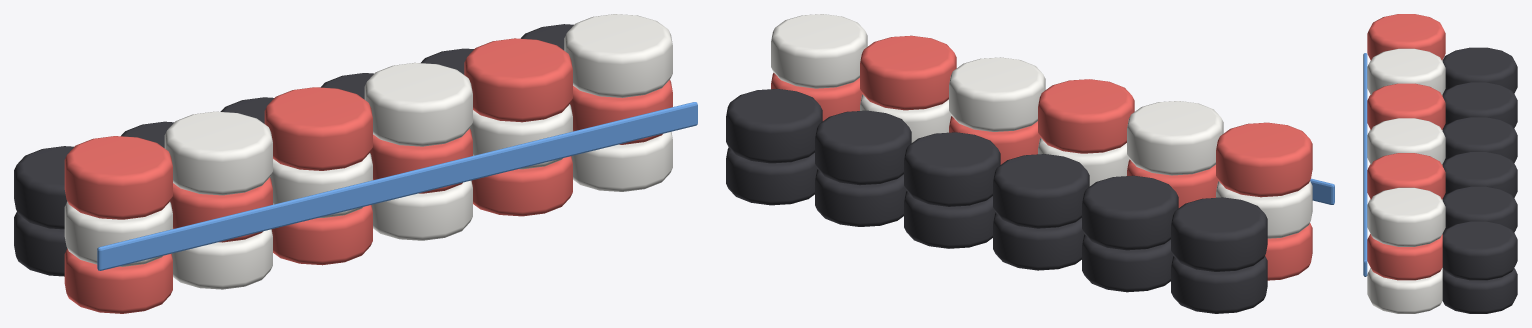
File: tyre_wall.fbx
3 renders of one model, left to right at view 1: azimuth 30°, elevation 25°; view 2: azimuth 150°, elevation 25°; view 3: azimuth 270°, elevation 25°, orthographic. The views are drawn at different scales.
Visible parts, largest first — view 1: Visual; view 2: Visual; view 3: Visual.
Boxes of the visible parts, x1,y1,x2,y2 form: Visual: [14, 14, 697, 313]; Visual: [726, 14, 1334, 313]; Visual: [1363, 14, 1517, 313].
Size of what is drawn, in the model's own units: 480 by 106 by 150.
